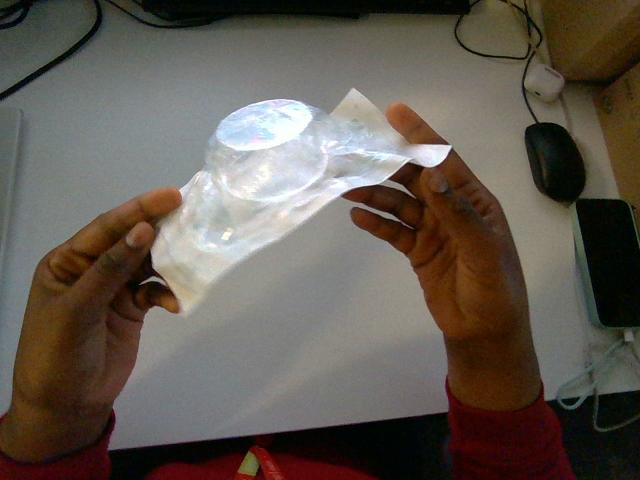gallipot: (151, 90, 450, 313)
